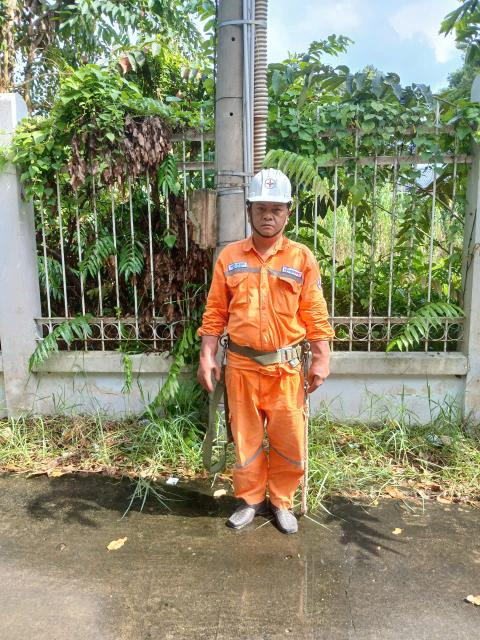gloves: (189, 328, 230, 396), (305, 332, 334, 397)
harness: (220, 333, 312, 371)
helmet: (238, 168, 299, 208)
shoes: (218, 481, 269, 532), (266, 493, 308, 537)
